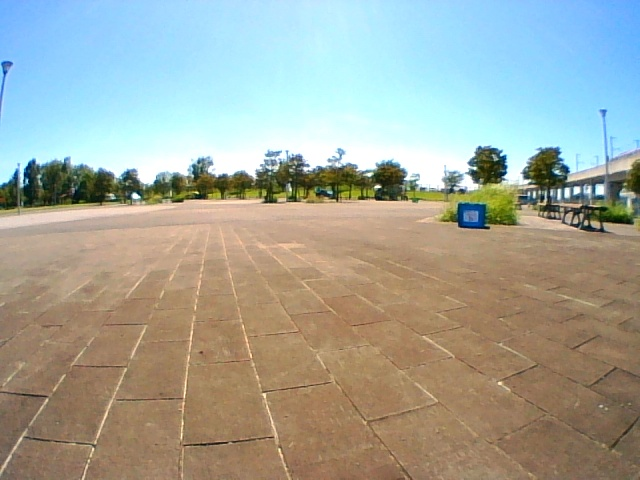blue_box: (458, 203, 485, 227)
tag: (463, 211, 478, 223)
